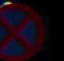No Stopping: (1, 2, 46, 60)
